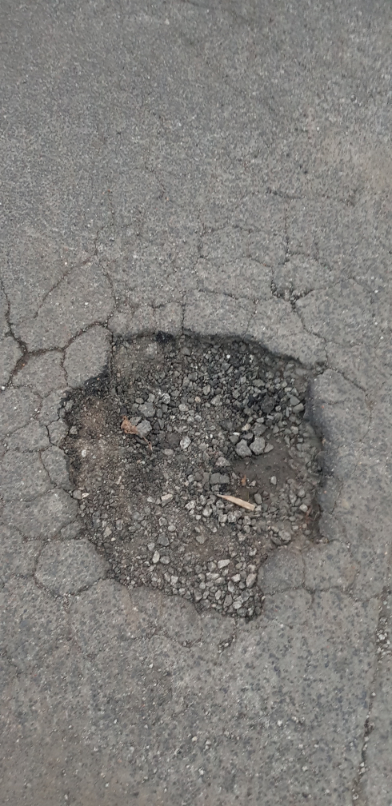pothole: (50, 323, 339, 626)
